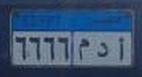6: (29, 34, 42, 61), (14, 34, 27, 61), (58, 36, 71, 62), (43, 36, 56, 62)
alif: (117, 34, 125, 62)
daal: (96, 40, 108, 60)
meem: (78, 36, 90, 63)
